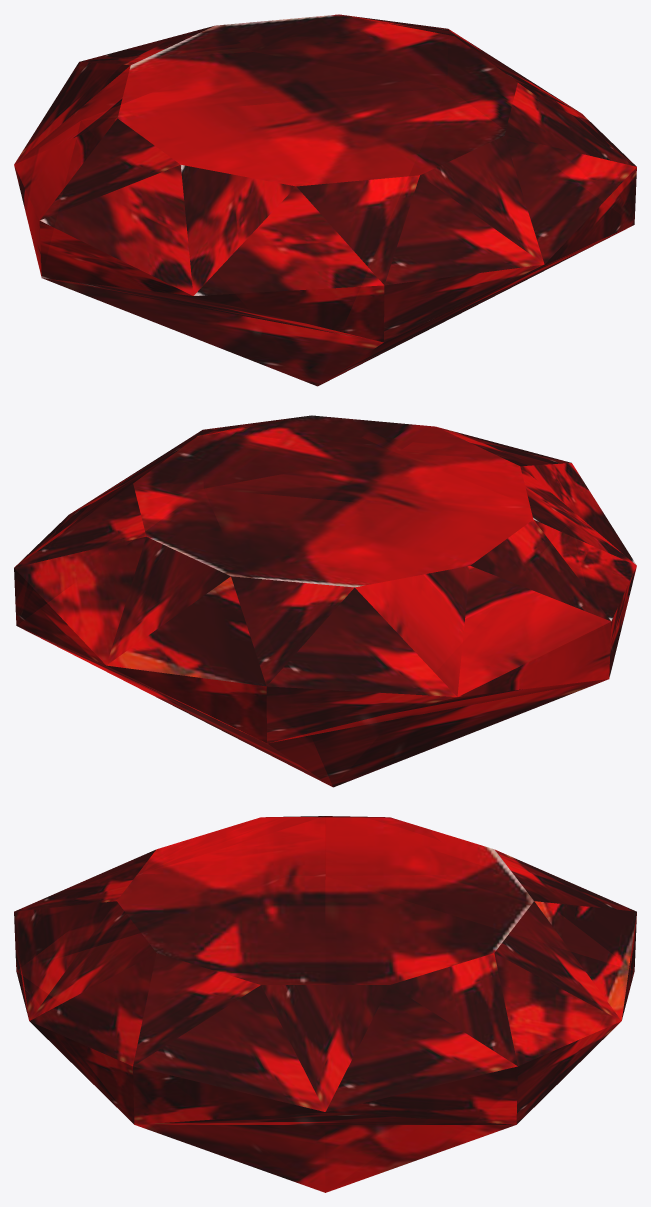
The model's file is ruby.fbx.
3 renders of one model, top to bottom at view 1: azimuth 30°, elevation 25°; view 2: azimuth 150°, elevation 25°; view 3: azimuth 270°, elevation 25°, orthographic. The views are drawn at different scales.
Parts seen in each view (by area): view 1: Icosphere; view 2: Icosphere; view 3: Icosphere.
Boxes of the visible parts, x1,y1,x2,y2 form: Icosphere: (14,14,636,386); Icosphere: (14,415,636,787); Icosphere: (14,816,636,1192).
Size of the model in its own units: 0.2464 by 0.1241 by 0.2402.
1 material, 1 textured.
